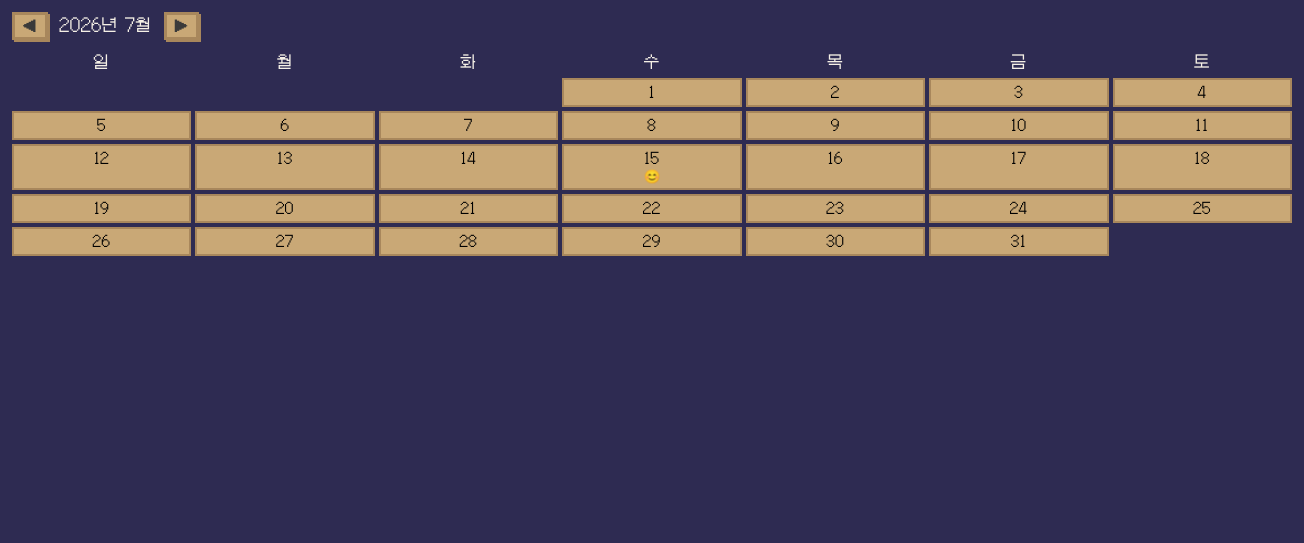
Test: HistoryPage › navigates to the previous and next month and clears the selection
Click the button "15 😊": (652, 167) [562,144,742,190]
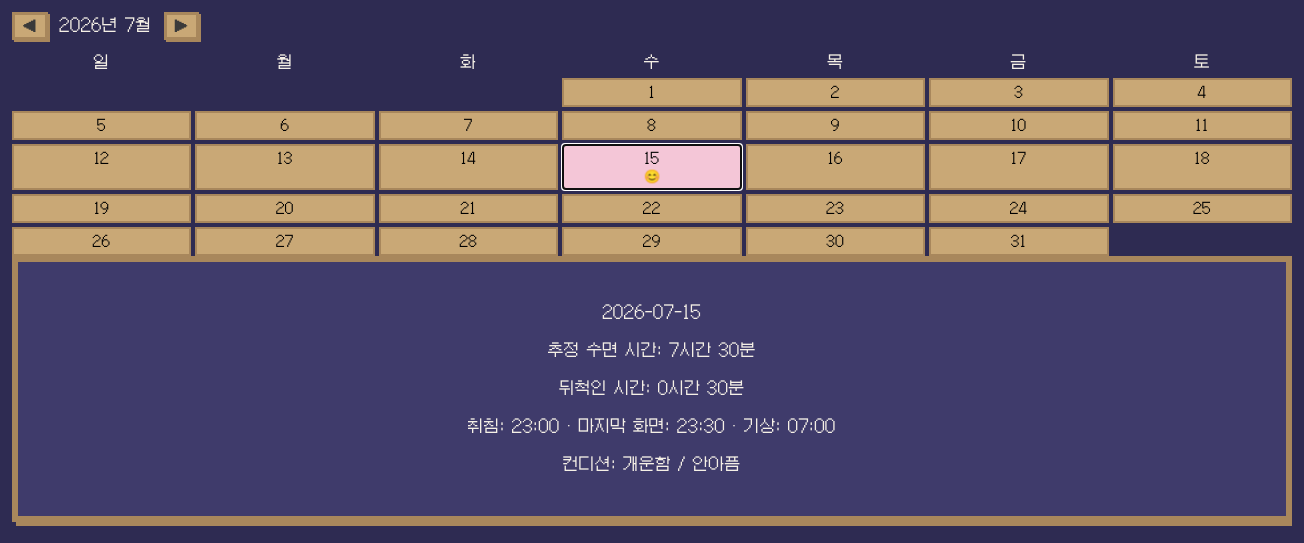
Click the button "◀": (30, 26) [12,12,48,40]
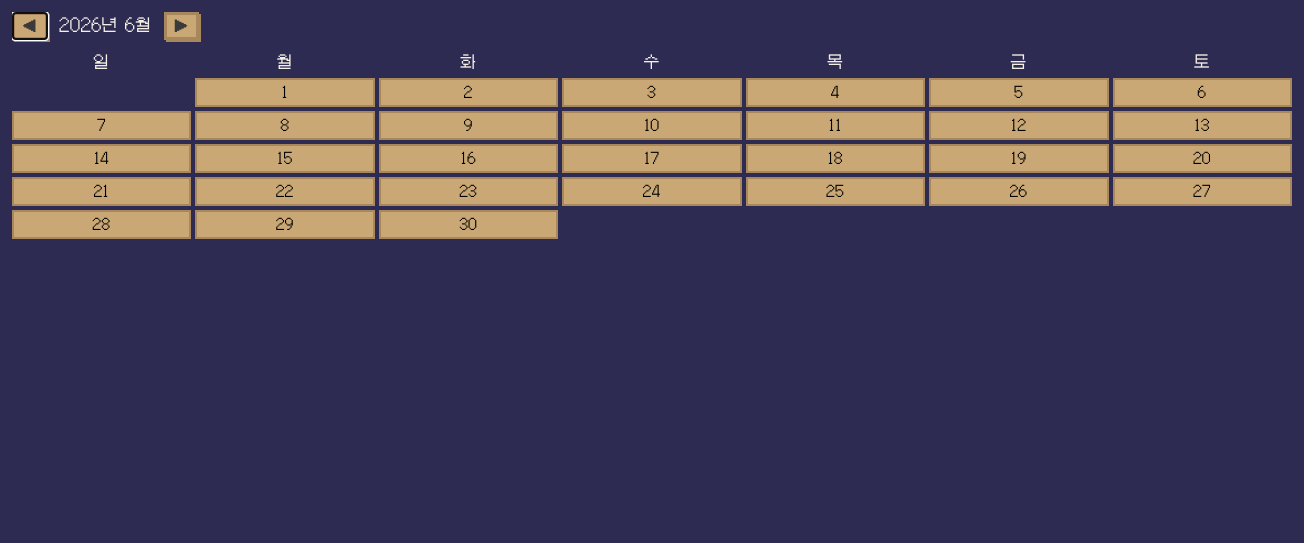
Now the text "2026년 6월" is shown, box [60,15,152,37]
Now the text "2026-07-15" is gone
Click the button "▶": (181, 26) [164,12,199,40]
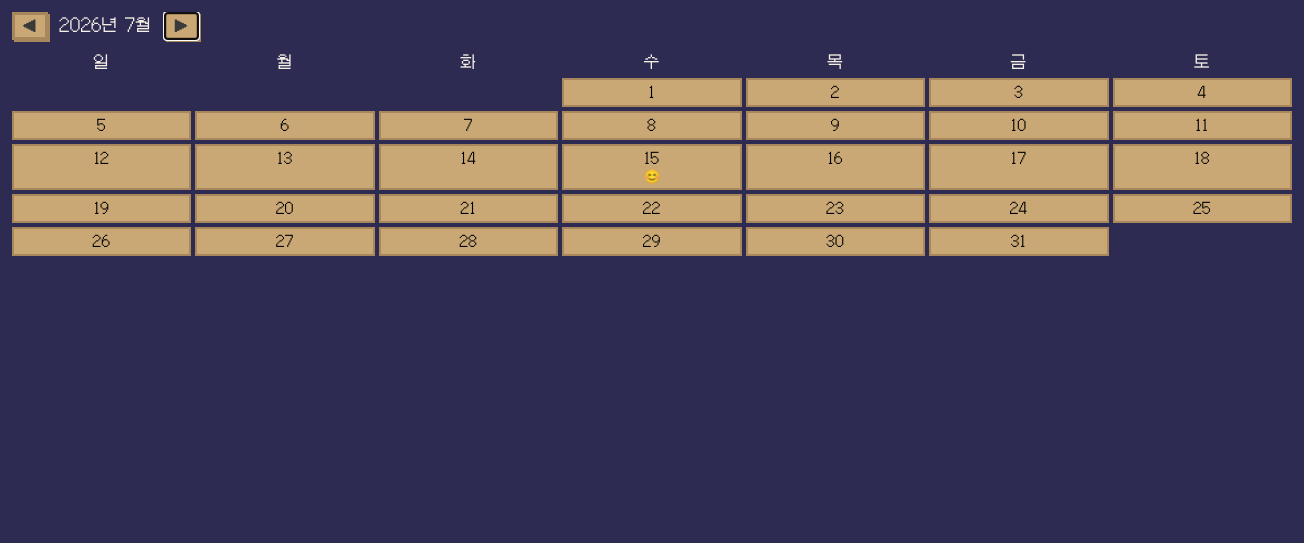
Click the button "▶": (181, 26) [164,12,199,40]
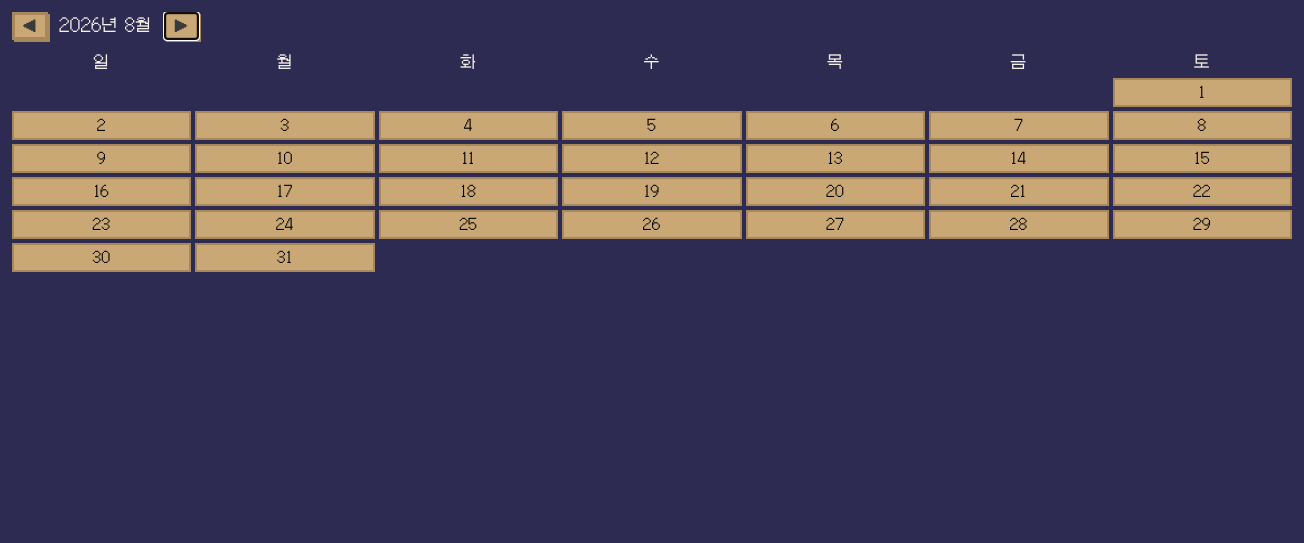
Now the text "2026년 8월" is shown, box [60,15,152,37]
